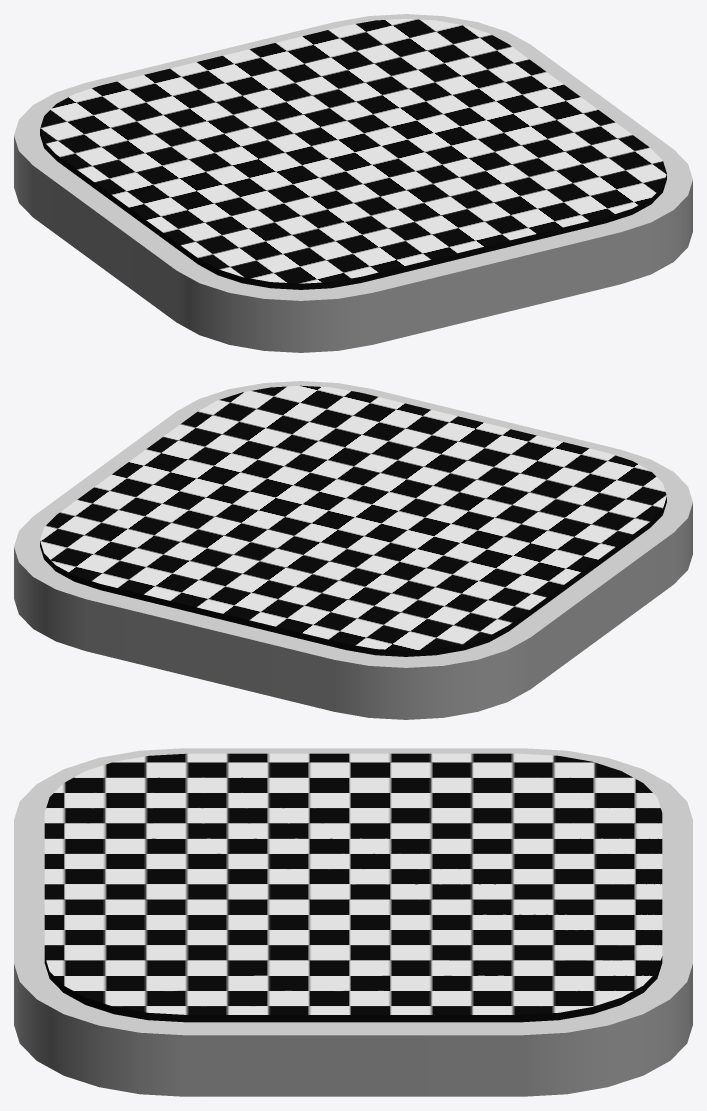
Rendered from floor_levelend_platform.fbx.
The picture shows the model from 3 angles, top to bottom: view 1: azimuth 30°, elevation 25°; view 2: azimuth 150°, elevation 25°; view 3: azimuth 270°, elevation 25°; orthographic projection. The views are drawn at different scales.
Visible parts, largest first — view 1: floor_levelend_platform; view 2: floor_levelend_platform; view 3: floor_levelend_platform.
Part boxes in pixels (<box>): floor_levelend_platform: <box>14,14,692,352</box>; floor_levelend_platform: <box>14,381,692,719</box>; floor_levelend_platform: <box>14,748,692,1096</box>.
Size of the model in its own units: 1000 by 112 by 1000.
Materials: 1 (1 with a texture image).
